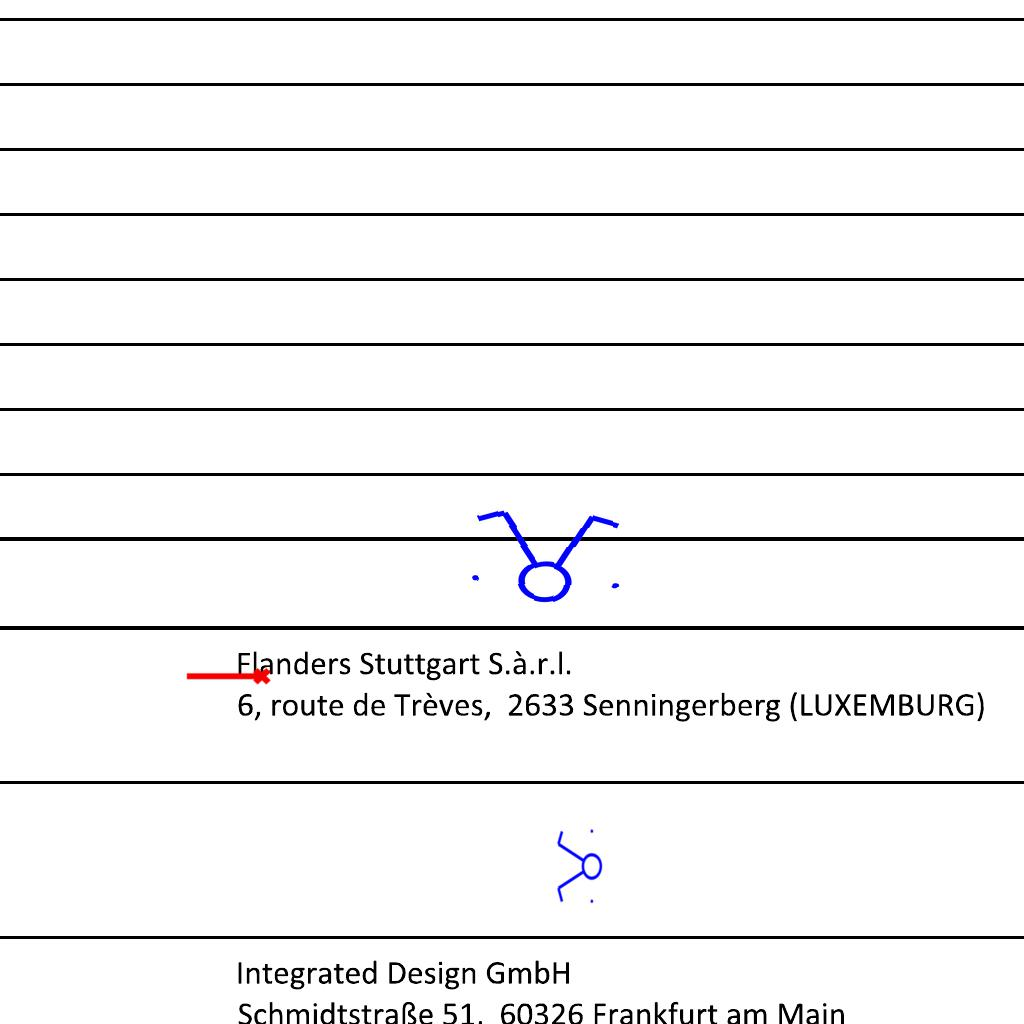ASR_Ansaugoeffnung: (184, 666, 272, 689)
Serienschalter: (458, 503, 632, 609), (555, 825, 603, 909)
